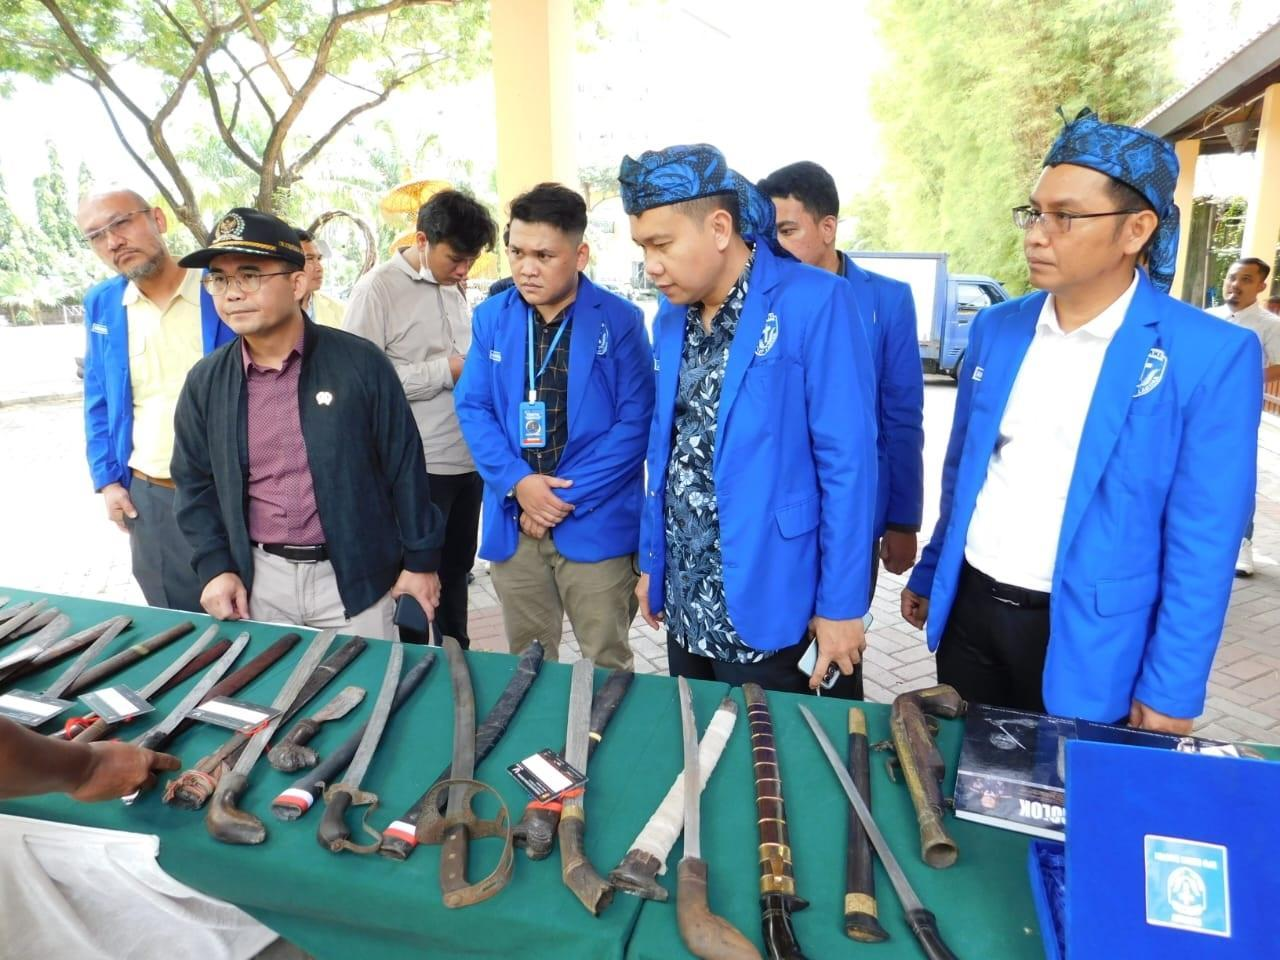espada: (201, 624, 344, 853), (295, 632, 420, 867), (435, 620, 495, 908)
facao: (800, 696, 974, 955), (104, 627, 268, 803), (735, 677, 813, 960), (670, 670, 746, 960), (564, 657, 609, 917)
